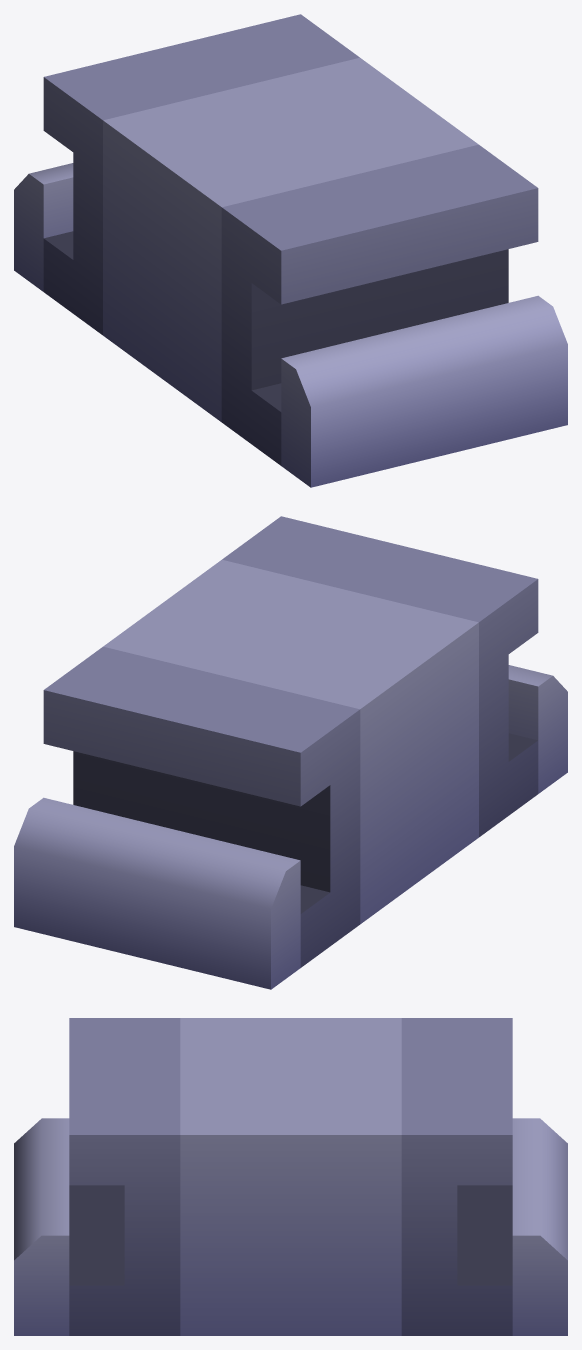
Rendered from kenney-factory-conveyor-long-stripe-sides-part-middle.glb.
3 views of the same model, one above another, from view 1: azimuth 30°, elevation 25°; view 2: azimuth 150°, elevation 25°; view 3: azimuth 270°, elevation 25° (orthographic). The views are drawn at different scales.
Parts seen in each view (by area): view 1: conveyor-long-stripe-sides-part-middle; view 2: conveyor-long-stripe-sides-part-middle; view 3: conveyor-long-stripe-sides-part-middle.
Part boxes in pixels (x1,y1,x2,y2): conveyor-long-stripe-sides-part-middle: (14,14,567,487); conveyor-long-stripe-sides-part-middle: (14,516,567,989); conveyor-long-stripe-sides-part-middle: (14,1018,567,1335).
Bounding box in the file's own units: 0.75 × 0.6 × 1.5.
Materials: 1 (1 with a texture image).
